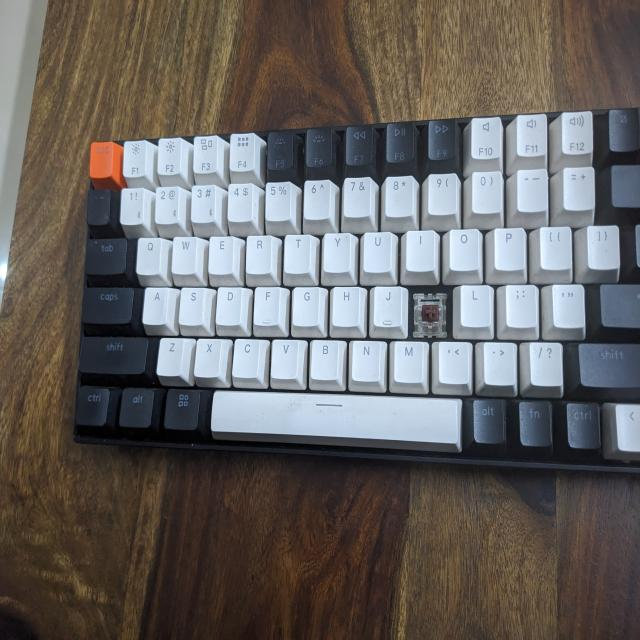C: (411, 290, 446, 338)
